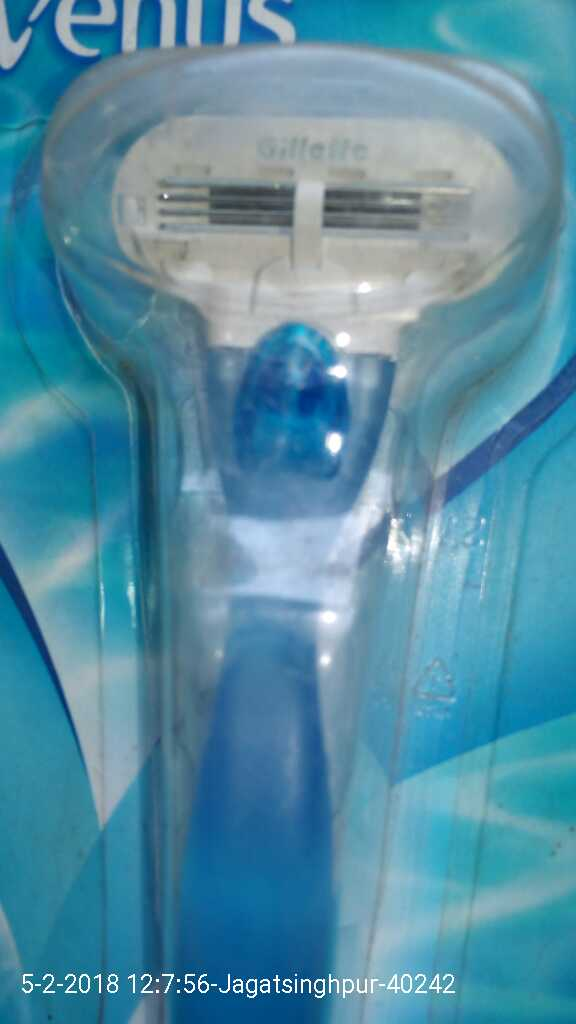beauty: (49, 41, 551, 1024)
